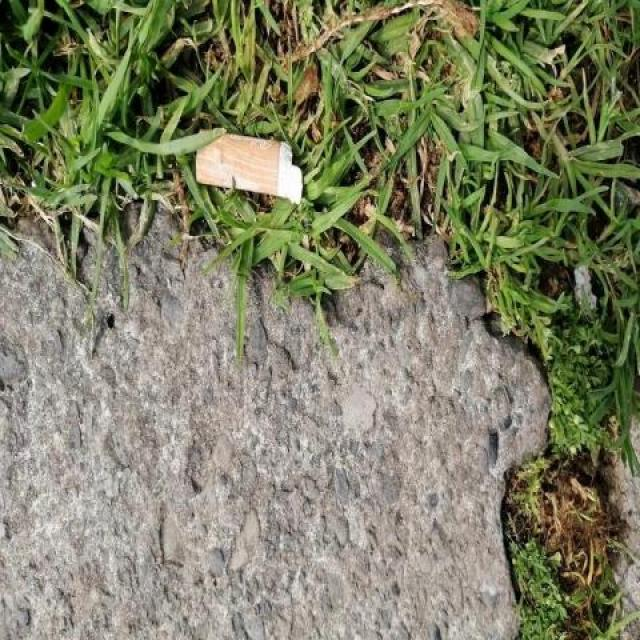non-organic waste: (193, 126, 307, 206)
